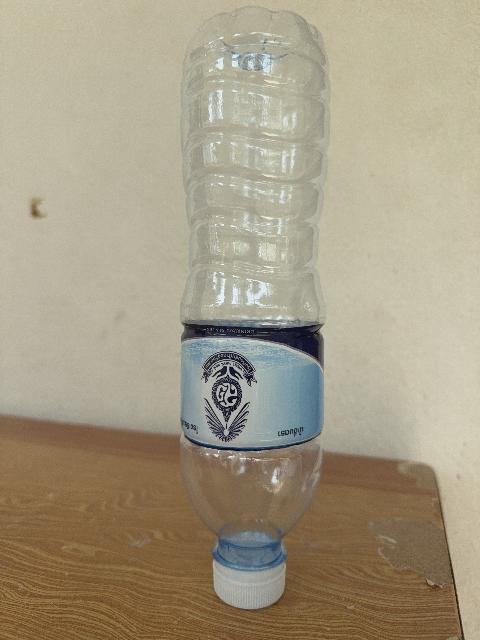bottle: (181, 7, 329, 608)
